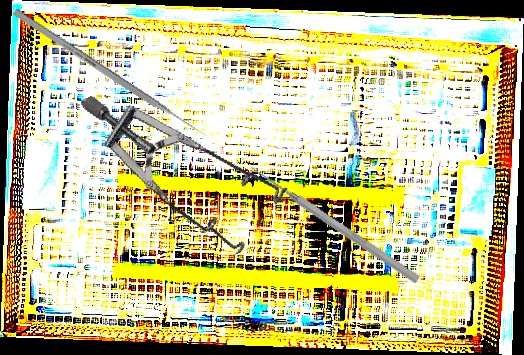Pusher: (12, 8, 209, 140), (247, 161, 422, 286)
Speculum: (79, 40, 304, 288)
